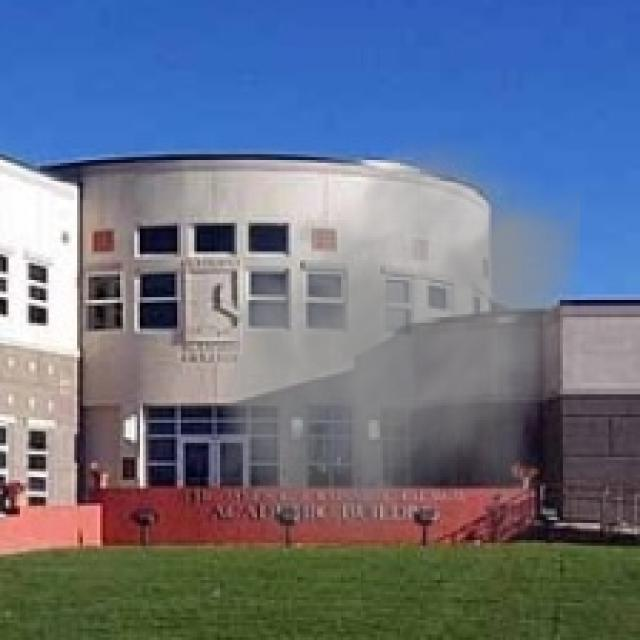Smoke: (215, 125, 580, 540)
